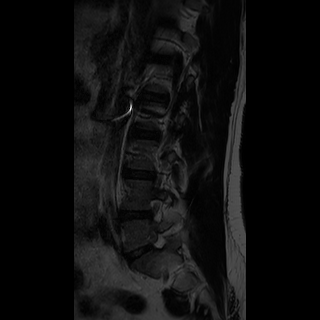RFS0: (140, 191, 169, 225)
